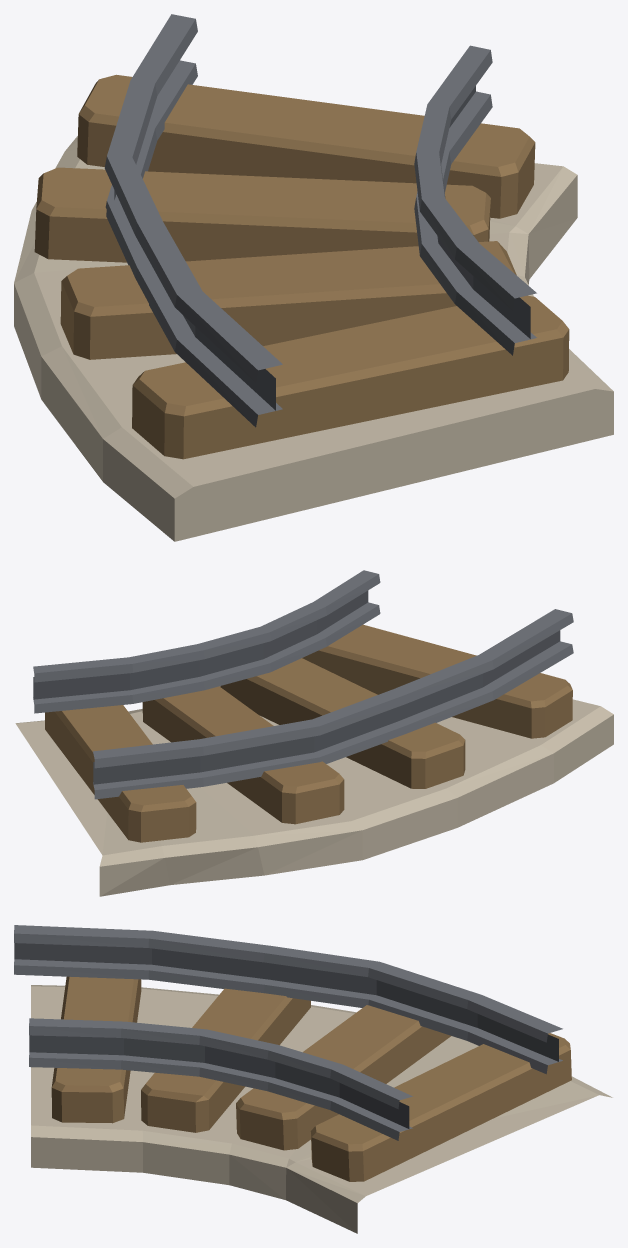
Rendered from 轨道弯曲45.glb.
The picture shows the model from 3 angles, top to bottom: view 1: azimuth 30°, elevation 25°; view 2: azimuth 150°, elevation 25°; view 3: azimuth 270°, elevation 25°; orthographic projection. The views are drawn at different scales.
Visible parts, largest first — view 1: 轨道弯曲45; view 2: 轨道弯曲45; view 3: 轨道弯曲45.
Part boxes in pixels (box(x1,y1,x2,y2)): 轨道弯曲45: box(14, 14, 613, 541); 轨道弯曲45: box(15, 570, 613, 896); 轨道弯曲45: box(14, 925, 612, 1233).
Bounding box in the file's own units: 5.64 × 1.38 × 6.53.
3 materials, 3 textured.
